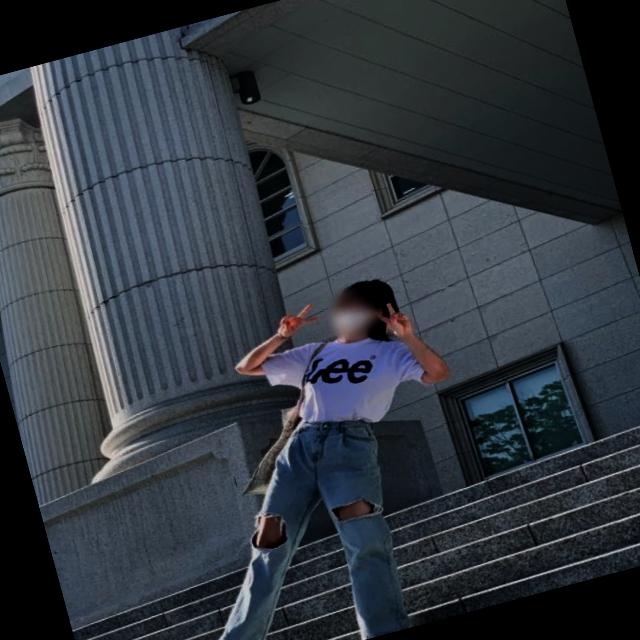denimpants: (162, 401, 429, 640)
shortsleeve: (263, 316, 441, 450)
